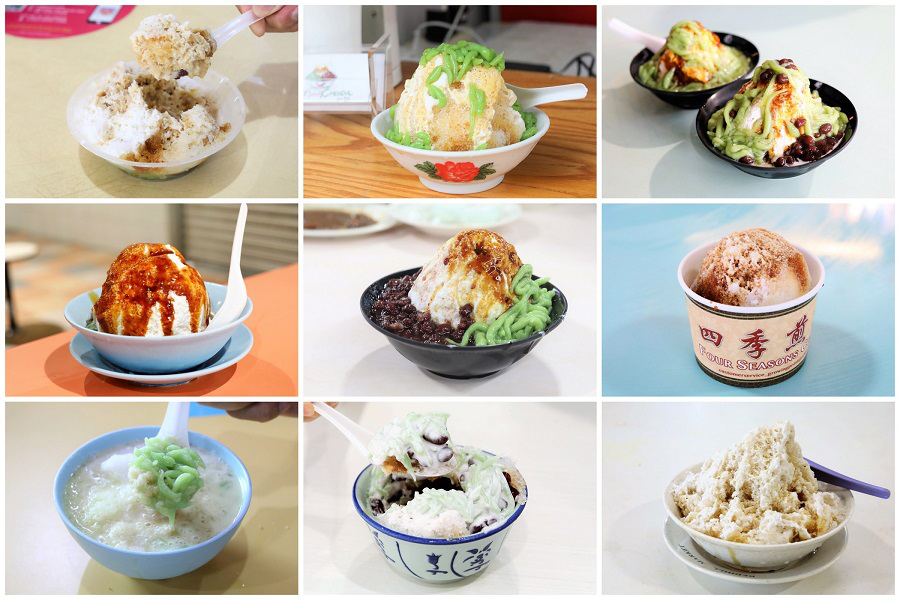Chendol: (358, 219, 572, 374), (365, 37, 548, 165), (698, 67, 865, 177), (643, 17, 753, 93), (132, 434, 211, 516)
